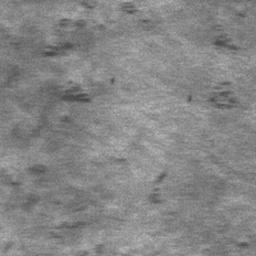Rolled in scale: (213, 25, 241, 55), (209, 82, 236, 110), (65, 81, 91, 103), (53, 222, 86, 239), (153, 173, 166, 205), (44, 45, 73, 58), (125, 5, 137, 15), (81, 1, 94, 10), (237, 242, 249, 247), (235, 13, 246, 18)
